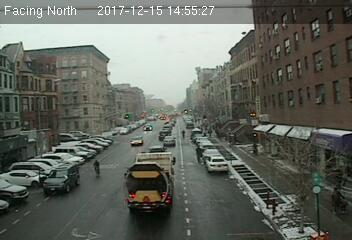bicycle: (92, 158, 102, 178)
car: (41, 165, 80, 192), (206, 154, 227, 172), (163, 135, 175, 145), (129, 137, 143, 145)
truck: (126, 151, 173, 211)
